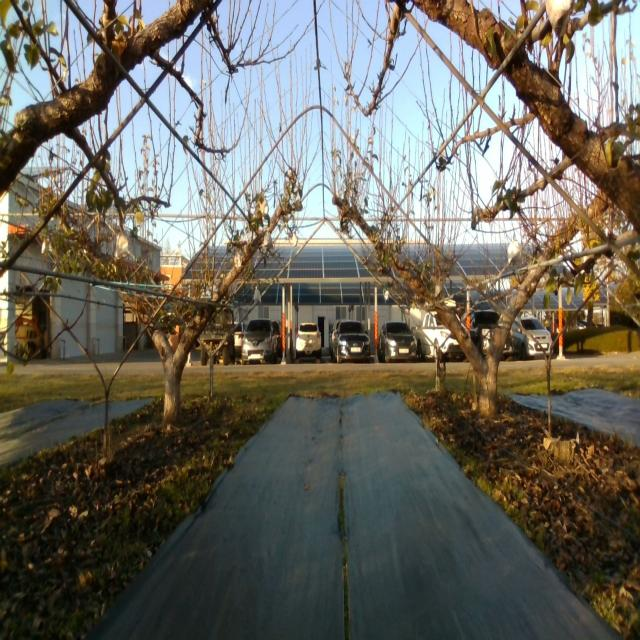pearbags: (115, 232, 130, 260), (508, 242, 521, 265)
